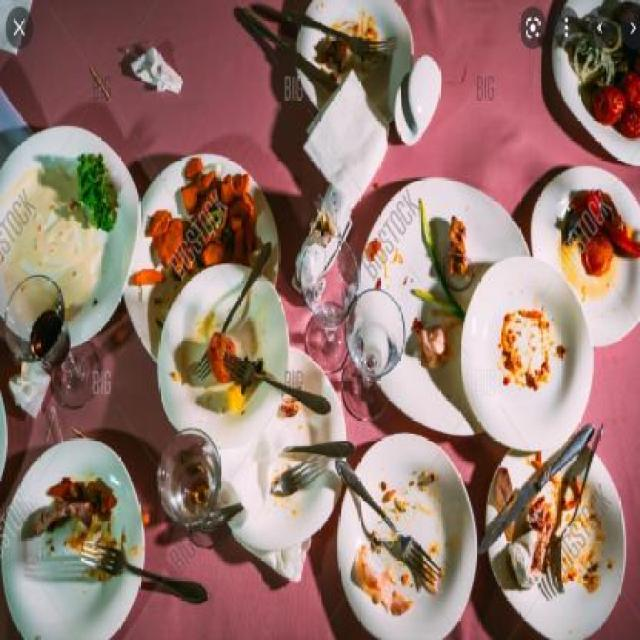Glass: (6, 282, 106, 409), (152, 439, 237, 546), (346, 291, 406, 420), (302, 242, 351, 364)
Plate: (356, 188, 524, 435), (132, 150, 278, 358), (2, 125, 140, 343), (5, 440, 144, 637), (486, 443, 625, 635), (348, 437, 477, 638), (214, 356, 343, 546), (468, 260, 594, 451), (160, 264, 289, 442), (532, 169, 637, 345), (557, 3, 637, 165), (302, 3, 402, 128)
